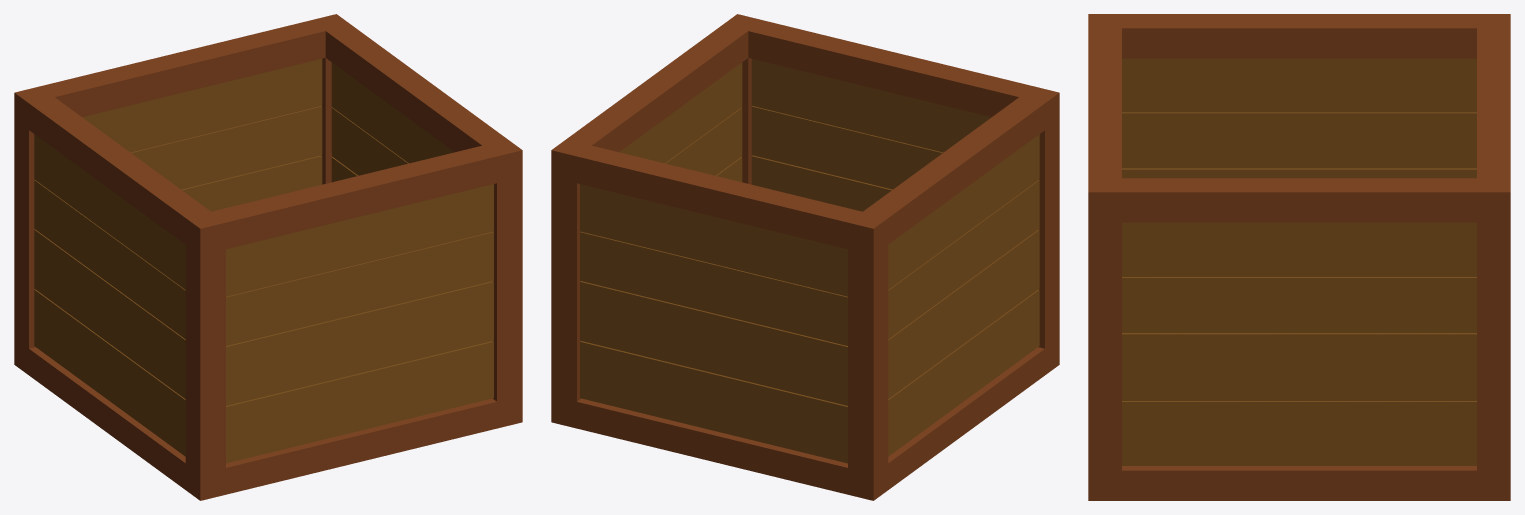
Rendered from Crate.fbx.
3 views of the same model, side by side, from view 1: azimuth 30°, elevation 25°; view 2: azimuth 150°, elevation 25°; view 3: azimuth 270°, elevation 25° (orthographic). The views are drawn at different scales.
Parts seen in each view (by area): view 1: ContainerBox; view 2: ContainerBox; view 3: ContainerBox.
Boxes of the visible parts, left/top/right/bottom form: ContainerBox: left=14, top=14, right=522, bottom=500; ContainerBox: left=551, top=14, right=1059, bottom=500; ContainerBox: left=1088, top=14, right=1510, bottom=500.
Size of the model in its own units: 76.08 by 61.39 by 76.1.
